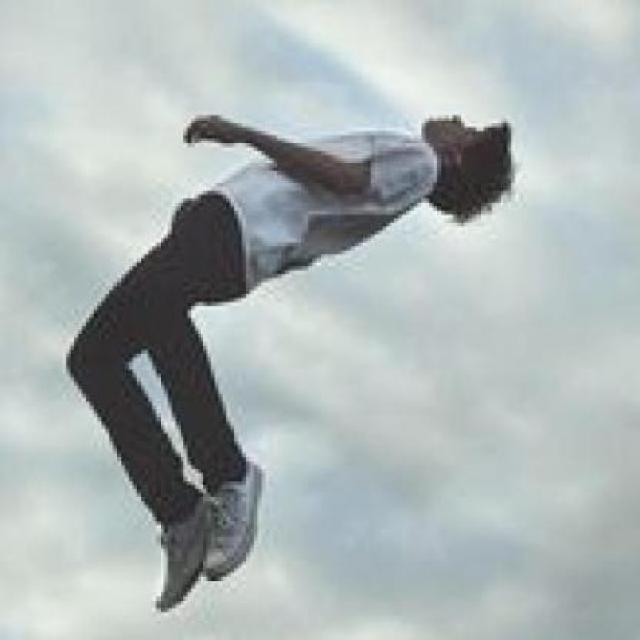fall: (61, 100, 521, 612)
